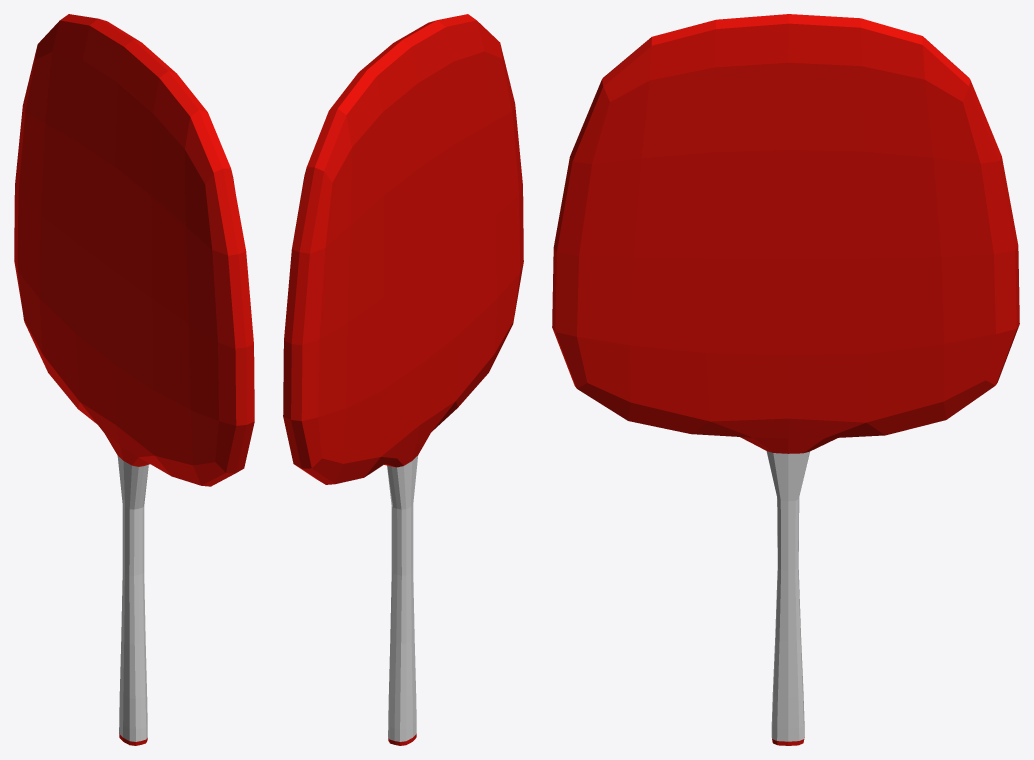
Rendered from lollitree.fbx.
The picture shows the model from 3 angles, left to right: view 1: azimuth 30°, elevation 25°; view 2: azimuth 150°, elevation 25°; view 3: azimuth 270°, elevation 25°; orthographic projection. The views are drawn at different scales.
Parts seen in each view (by area): view 1: Cube; view 2: Cube; view 3: Cube.
Boxes of the visible parts, x1=… form: Cube: x1=14, y1=14, x2=254, y2=745; Cube: x1=283, y1=14, x2=523, y2=745; Cube: x1=552, y1=14, x2=1019, y2=745.
Bounding box in the file's own units: 116 × 2000 × 1166.
